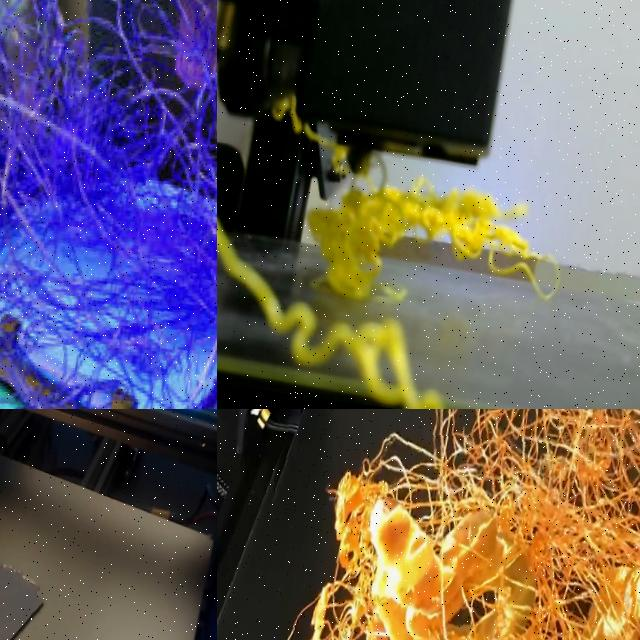spaghetti: (217, 409, 640, 640), (0, 0, 217, 409), (217, 217, 446, 409), (310, 179, 560, 300), (272, 94, 350, 180)
